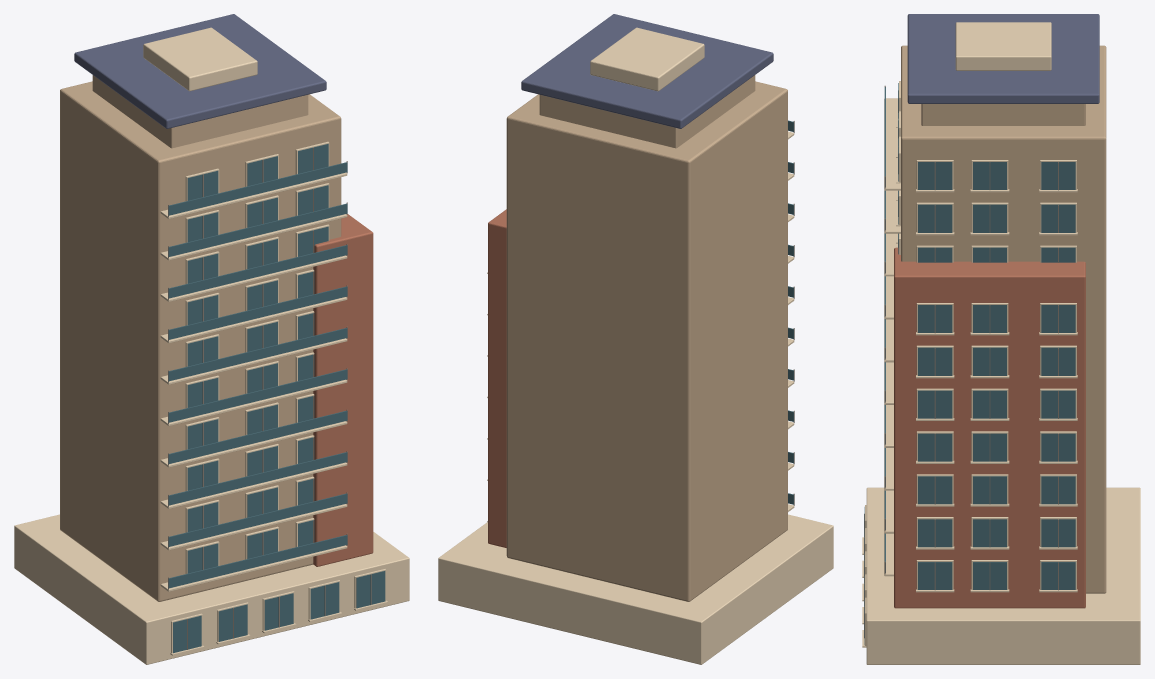
The model's file is residential-tower-city-builder.glb.
The picture shows the model from 3 angles, left to right: view 1: azimuth 30°, elevation 25°; view 2: azimuth 150°, elevation 25°; view 3: azimuth 270°, elevation 25°; orthographic projection. The views are drawn at different scales.
Visible parts, largest first — view 1: residential-tower-city-builder; view 2: residential-tower-city-builder; view 3: residential-tower-city-builder.
Part boxes in pixels (<box>): residential-tower-city-builder: <box>14,14,409,664</box>; residential-tower-city-builder: <box>438,14,833,664</box>; residential-tower-city-builder: <box>862,14,1140,664</box>.
Bounding box in the file's own units: 23 × 44.6 × 20.32.
